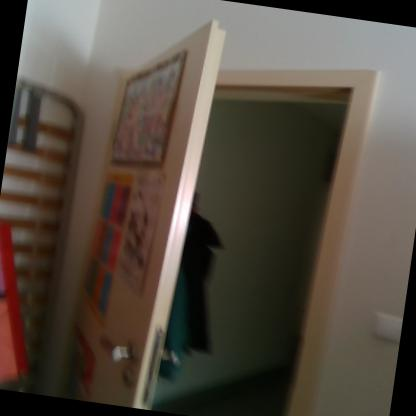semi: (55, 0, 394, 415)
